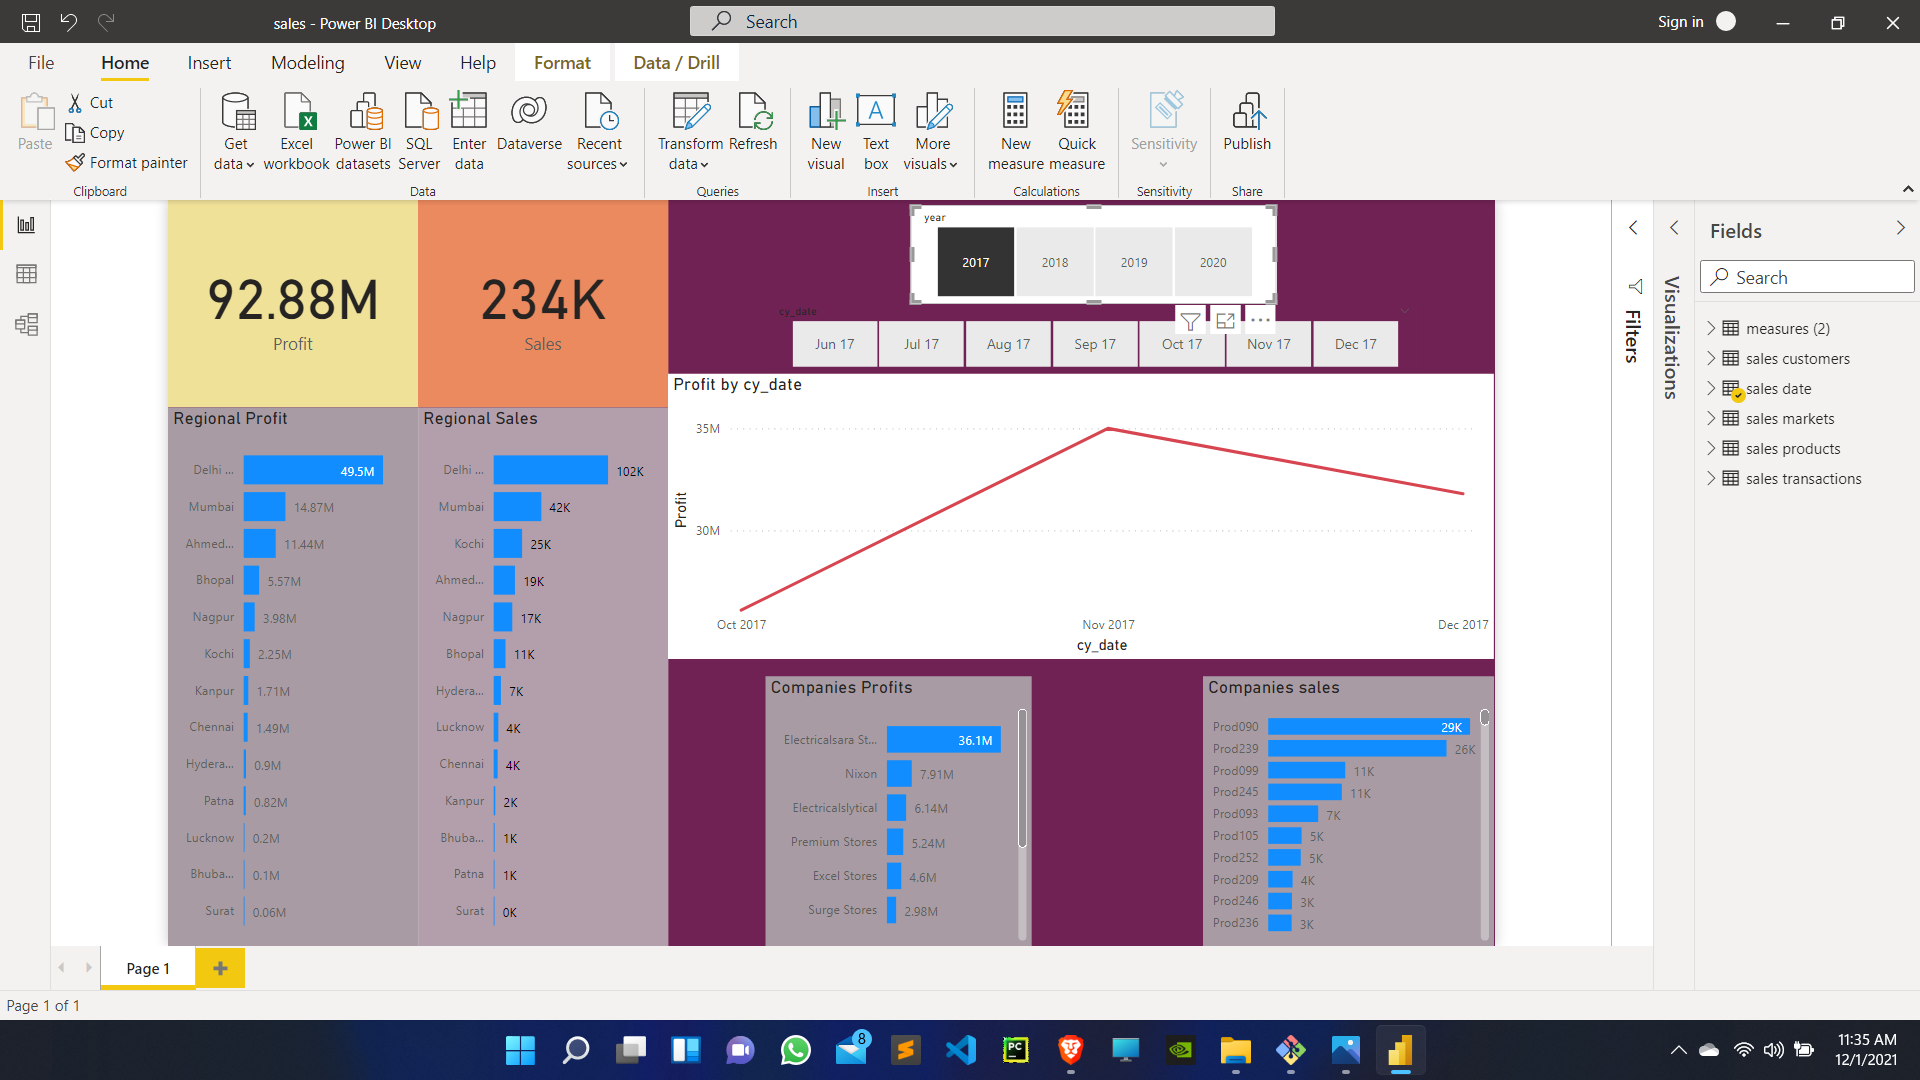

The dashboard page shown, as its layout file describes it:
{"tool":"powerbi","page":{"name":"Page 1","canvas":[1280,720],"ordinal":0},"visuals":[{"type":"card","fields":{"Values":["measures (2).Profit"]},"box":[0,0,241.2,200.2],"z":0},{"type":"card","fields":{"Values":["measures (2).Sales"]},"box":[241.2,0,241.2,200.2],"z":1000},{"type":"barChart","title":"Regional Profit","fields":{"Y":["measures (2).Profit"],"Category":["sales markets.markets_name"]},"box":[0,200.2,241.2,519.8],"z":2000},{"type":"barChart","title":"Regional Sales","fields":{"Y":["measures (2).Sales"],"Category":["sales markets.markets_name"]},"box":[241.2,200.2,241.2,519.8],"z":3000},{"type":"slicer","fields":{"Values":["sales date.year"]},"box":[716.4,4.8,353.4,95.3],"z":4000},{"type":"slicer","fields":{"Values":["sales date.cy_date"]},"box":[576.5,95.3,634.4,72.4],"z":5000},{"type":"barChart","title":"Companies Profits","fields":{"Y":["measures (2).Profit"],"Category":["sales customers.custmer_name"]},"box":[576.5,459.5,256.9,260.5],"z":6000},{"type":"barChart","title":"Companies sales","fields":{"Y":["measures (2).Sales"],"Category":["sales products.product_code"]},"box":[998.6,459.5,281,260.5],"z":7000},{"type":"lineChart","fields":{"Y":["measures (2).Profit"],"Category":["sales date.cy_date"]},"box":[482.4,167.6,797.2,275],"z":8000}]}

Visuals, with their boxes on the page's 1280x720 design canvas (x1, y1, x2, y2). These are canvas units, not pixel positions in the 1920x1080 screenshot, which may show the page scaled, cropped or inside an application window:
card - measures (2).Profit: (0, 0, 241, 200)
card - measures (2).Sales: (241, 0, 482, 200)
"Regional Profit" barChart: (0, 200, 241, 720)
"Regional Sales" barChart: (241, 200, 482, 720)
slicer - sales date.year: (716, 5, 1070, 100)
slicer - sales date.cy_date: (576, 95, 1211, 168)
"Companies Profits" barChart: (576, 460, 833, 720)
"Companies sales" barChart: (999, 460, 1280, 720)
lineChart - measures (2).Profit x sales date.cy_date: (482, 168, 1280, 443)
